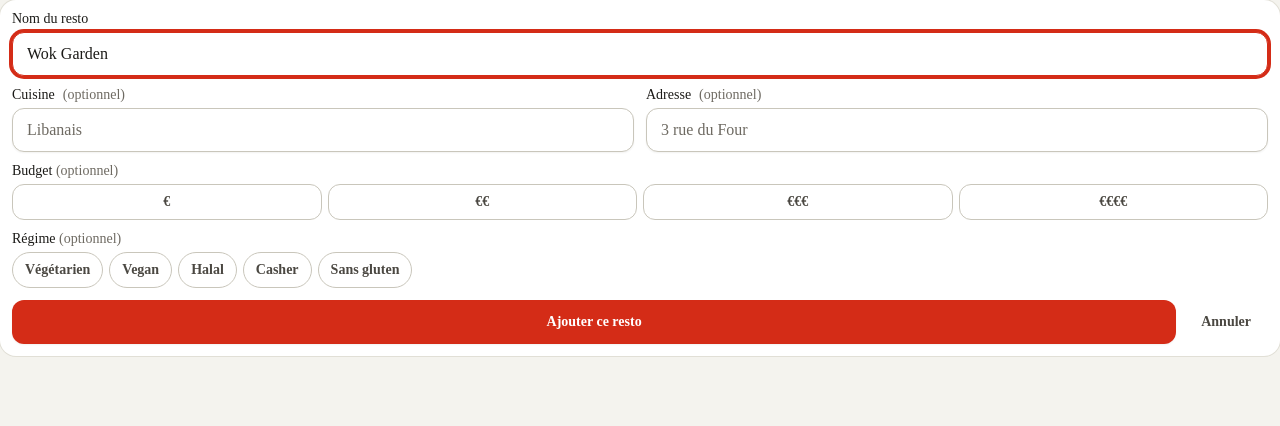
Test: AddRestaurantForm › should surface the server error and stay open
This screenshot has width=1280, height=426.
Click the button "Ajouter ce resto".
click(594, 322)  # box [12,300,1176,344]
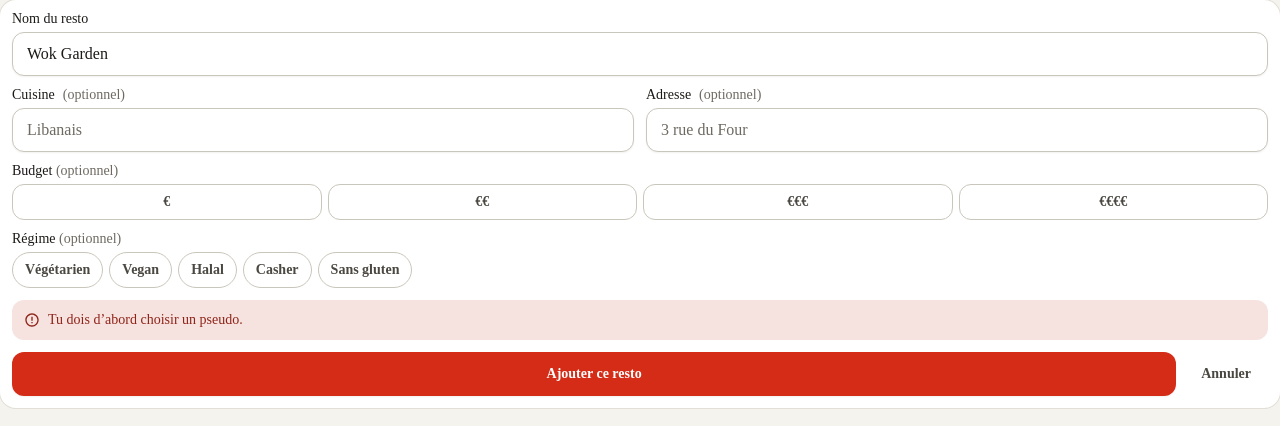
Check: the message reads "Tu dois d’abord choisir un pseudo.", box [48,312,243,327]
